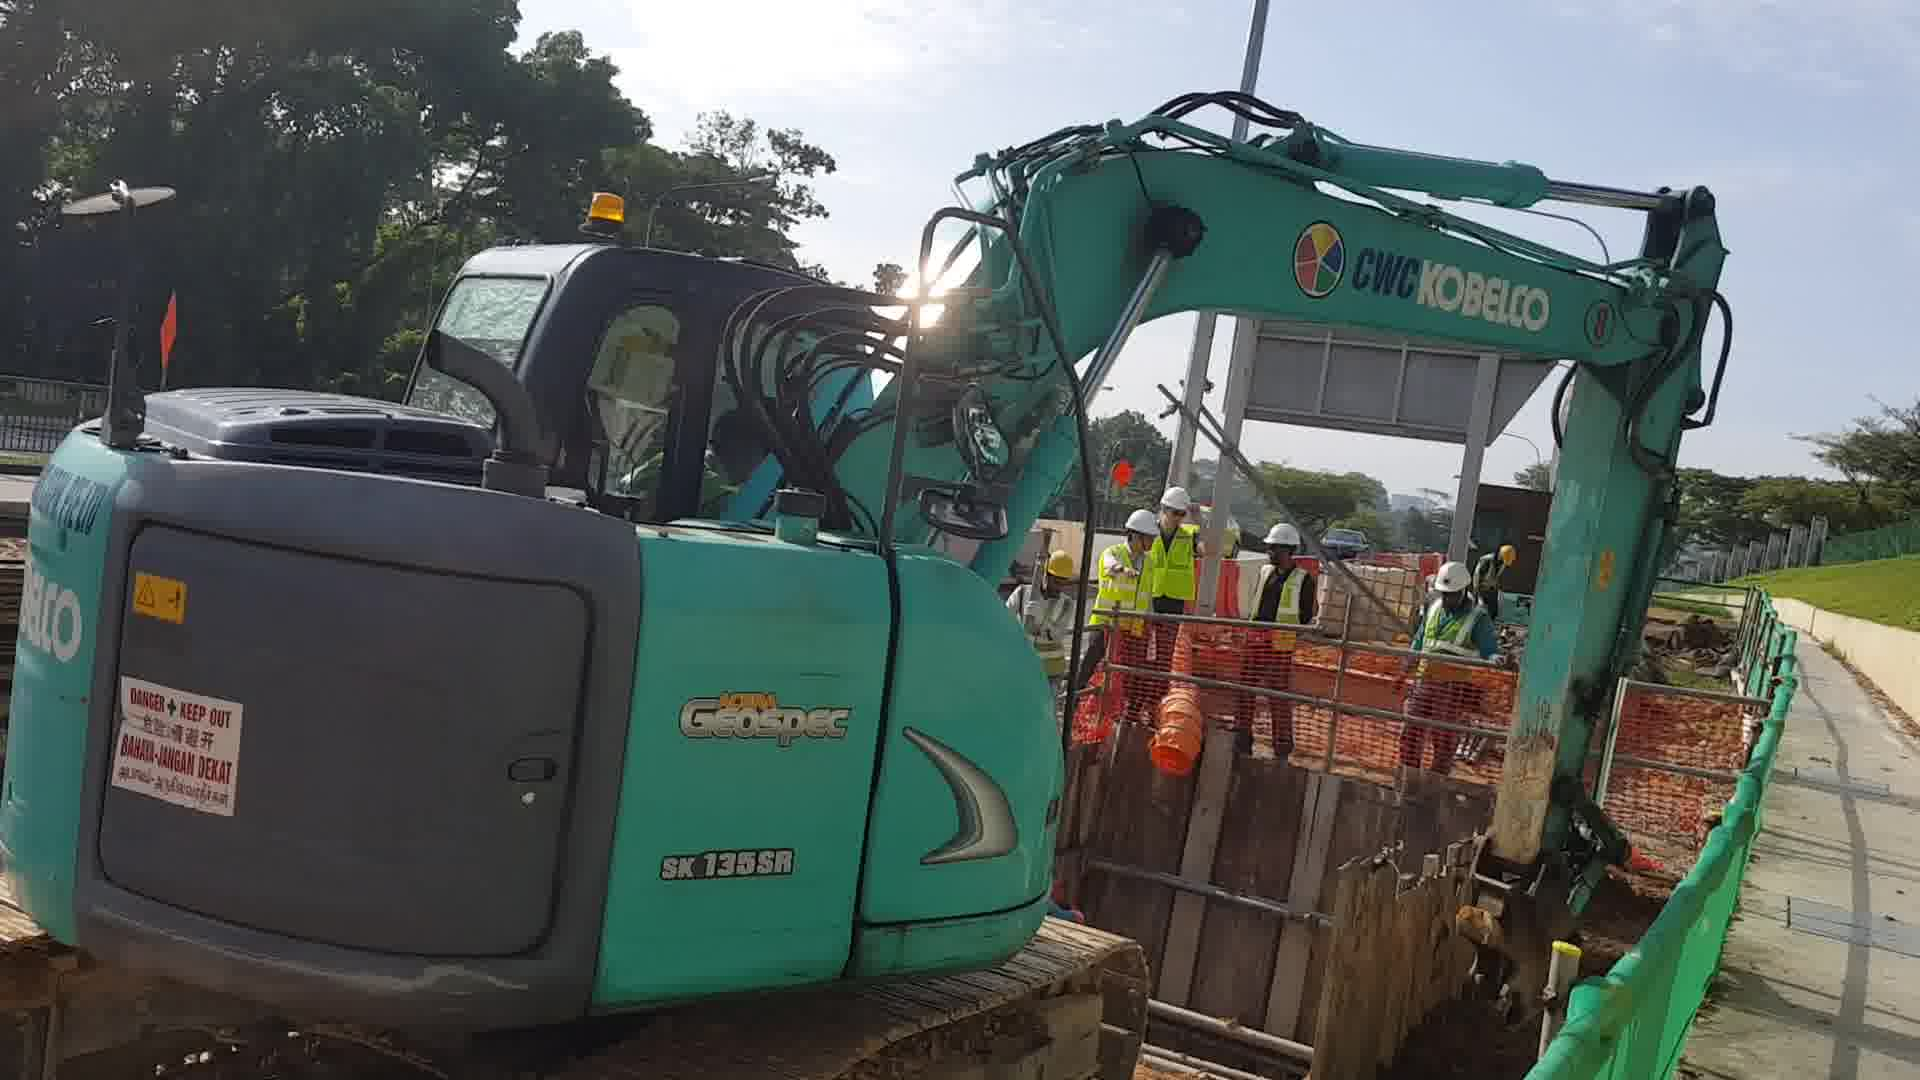cabin: (1, 190, 1062, 1021)
forearm: (1477, 185, 1730, 848)
upperarm: (800, 167, 1688, 531)
wheelbase: (1, 913, 1146, 1080)
